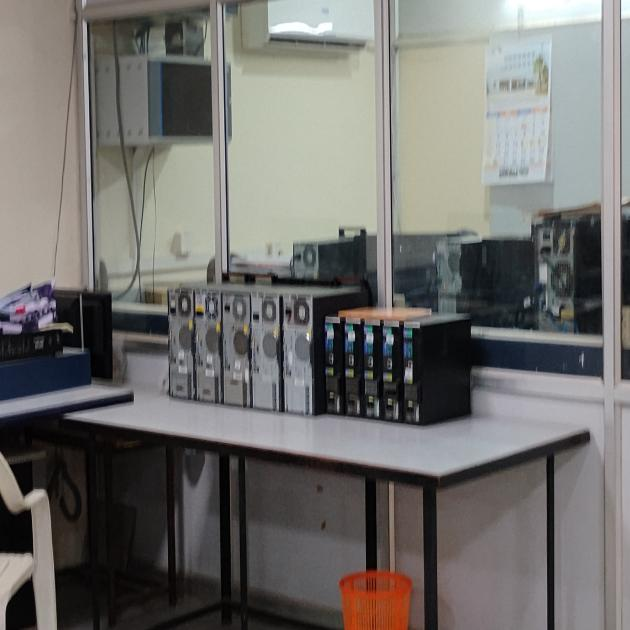desk: (59, 363, 521, 527)
